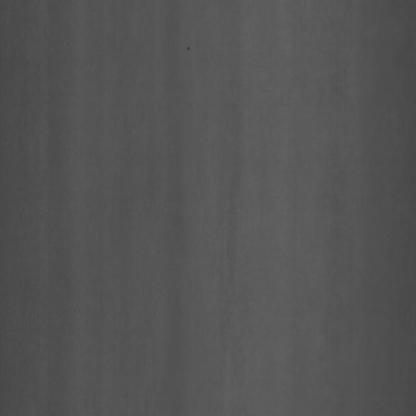inclusion: (180, 40, 192, 67)
